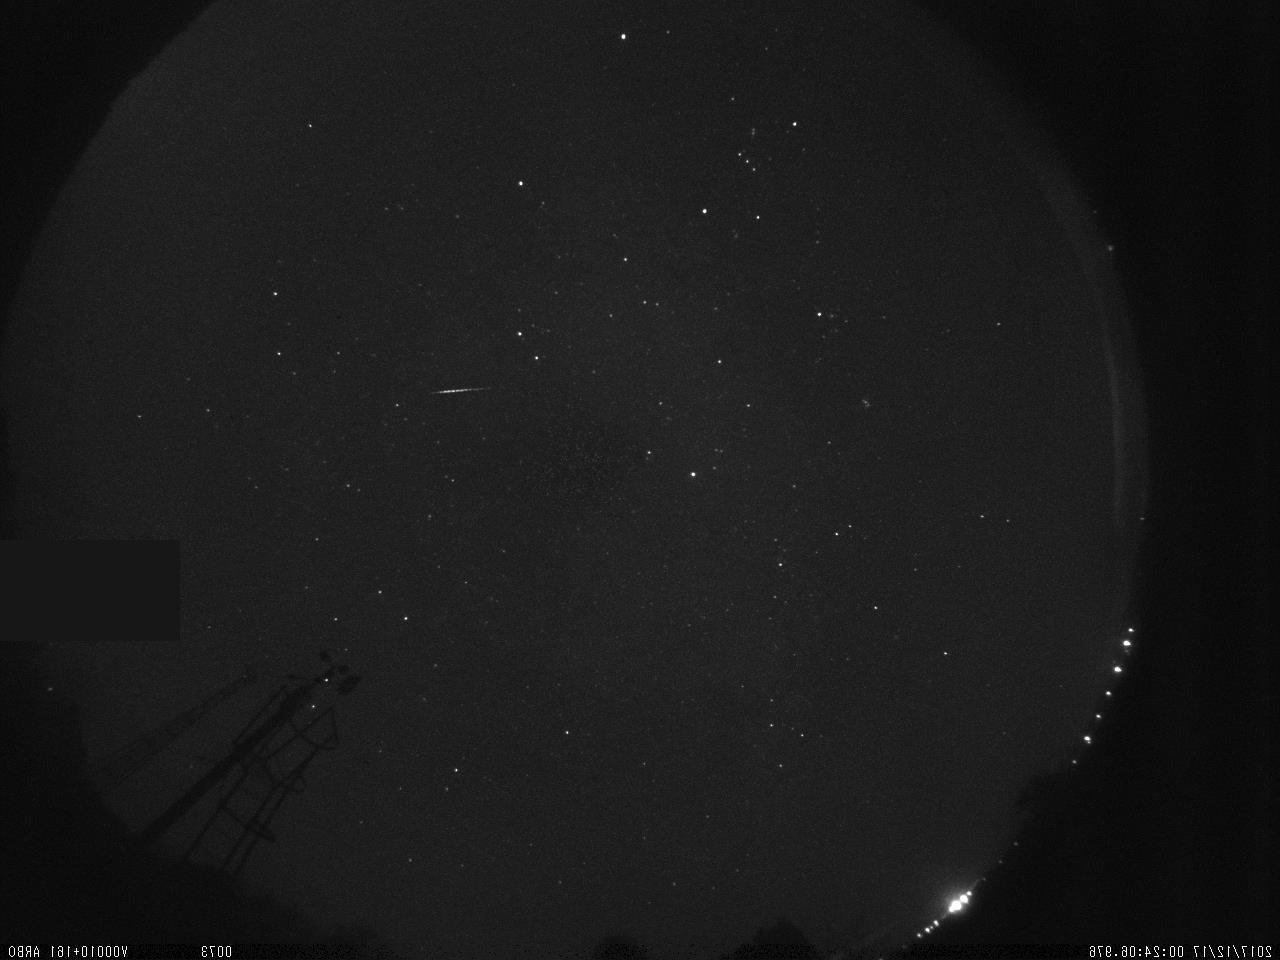meteor: (419, 378, 496, 413)
